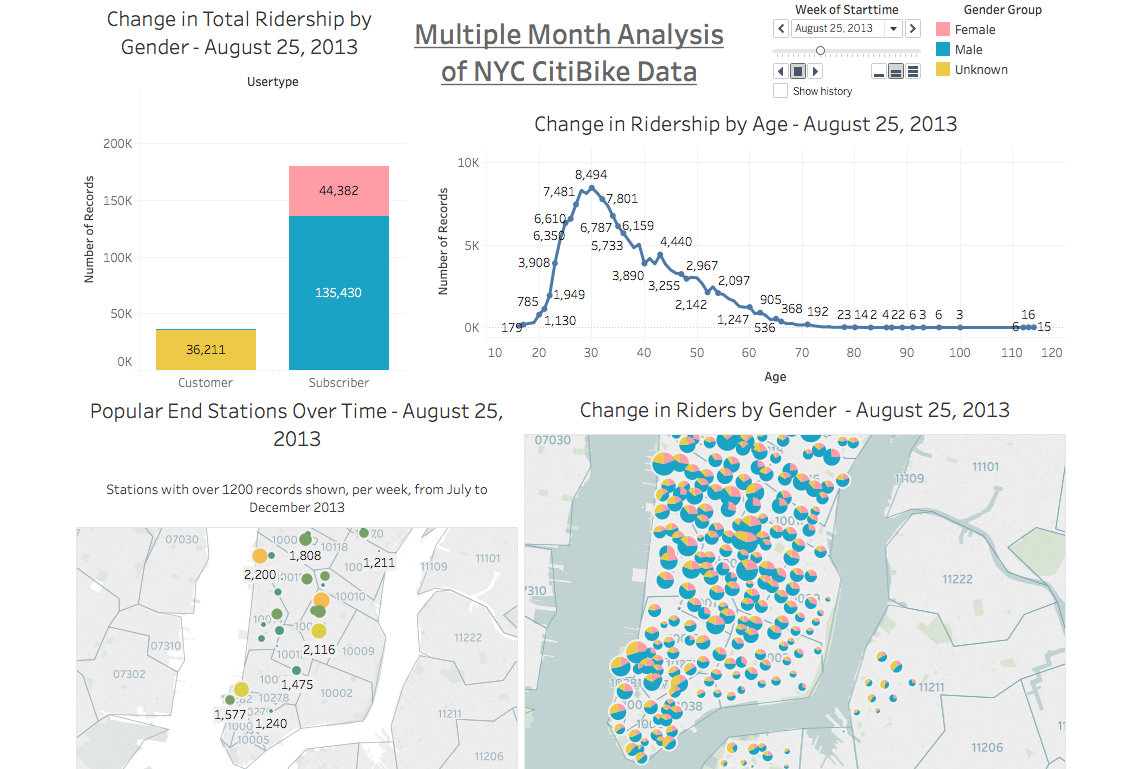

The page's visual inventory and layout, read from the dashboard file:
{"tool":"tableau","page":{"name":"Dashboard Summary","canvas":[1000,800],"ordinal":0},"visuals":[{"type":"worksheet","title":"Change in Total Ridership by Gender","mark":"Bar","rows":["Number of Records"],"cols":["usertype"],"box":[0,0,333,391]},{"type":"currpage","title":"Change in Total Ridership by Gender","box":[694,1,160,100]},{"type":"legend","title":"Change in Total Ridership by Gender","param":"[federated.0i2p4q616rof581b1ucx51n2nfxf].[none:Calculation_1117737176231493632:n","box":[860,1,140,100]},{"type":"worksheet","title":"Change in Ridership by Age","mark":"Automatic","rows":["Number of Records"],"cols":["Calculation_1117737176966242305"],"box":[354,105,638,287]},{"type":"worksheet","title":"Change in Riders by Gender","mark":"Pie","rows":["start station latitude"],"cols":["start station longitude"],"box":[451,391,542,405]},{"type":"worksheet","title":"Popular End Stations Over Time","mark":"Circle","rows":["end station latitude"],"cols":["end station longitude"],"box":[3,392,442,404]}]}

Visuals, with their boxes on the page's 1000x800 design canvas (x1, y1, x2, y2). These are canvas units, not pixel positions in the 1129x769 screenshot, which may show the page scaled, cropped or inside an application window:
"Change in Total Ridership by Gender" worksheet (Bar marks): <region>0, 0, 333, 391</region>
"Change in Total Ridership by Gender" currpage: <region>694, 1, 854, 101</region>
"Change in Total Ridership by Gender" legend: <region>860, 1, 1000, 101</region>
"Change in Ridership by Age" worksheet: <region>354, 105, 992, 392</region>
"Change in Riders by Gender" worksheet (Pie marks): <region>451, 391, 993, 796</region>
"Popular End Stations Over Time" worksheet (Circle marks): <region>3, 392, 445, 796</region>
